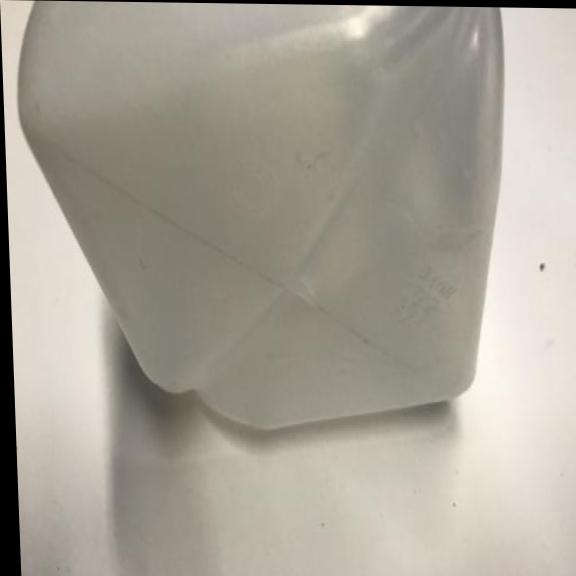Plastik: (12, 2, 517, 438)
